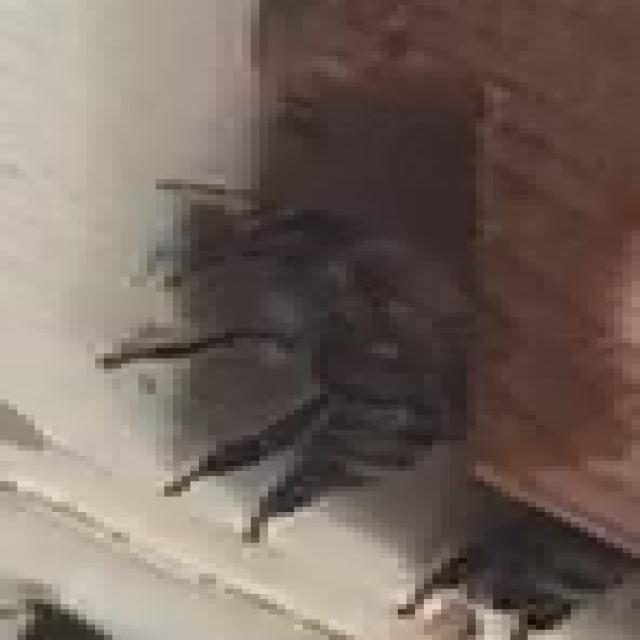honeybee: (143, 196, 484, 515)
